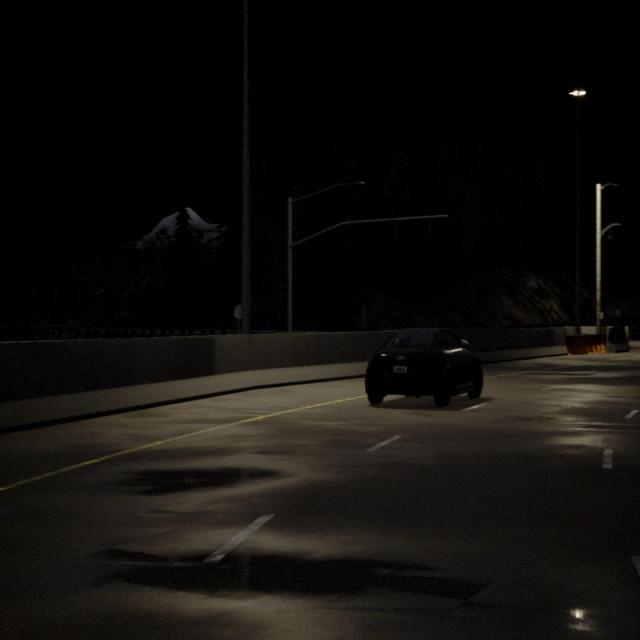Traffic_Signs: (234, 304, 242, 319)
Vehicle: (364, 328, 483, 406)
traffic_light: (392, 220, 397, 237), (428, 217, 432, 233), (353, 223, 357, 237), (608, 230, 611, 239)
